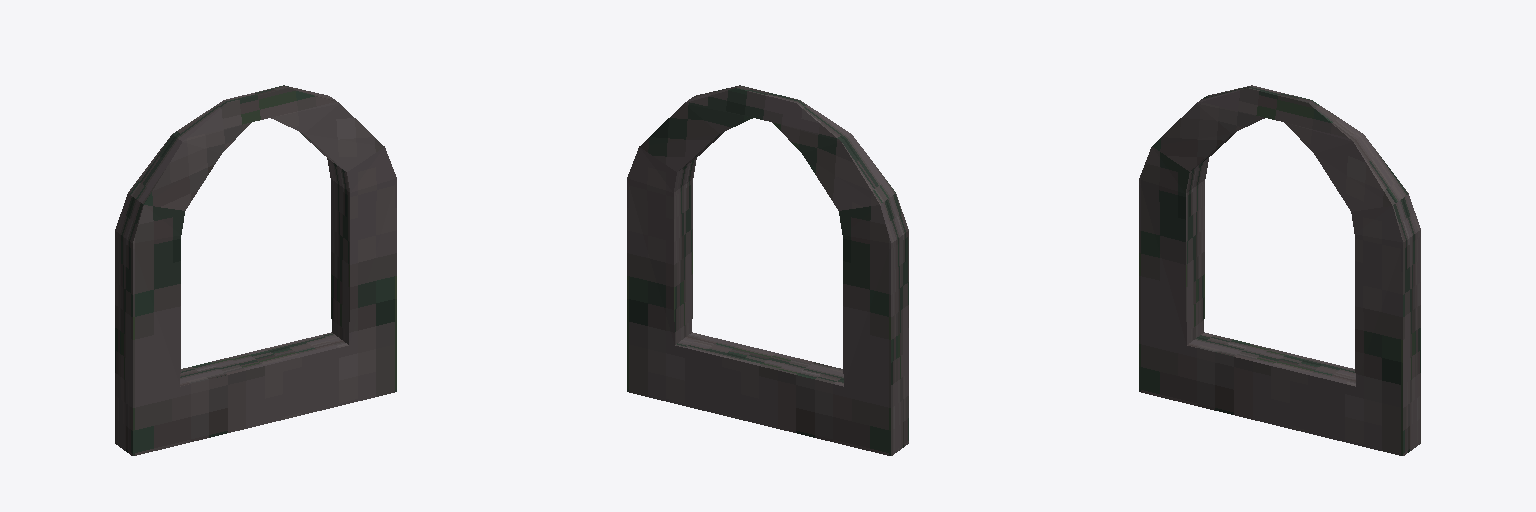
3 views of the same model, side by side, from view 1: azimuth 30°, elevation 25°; view 2: azimuth 150°, elevation 25°; view 3: azimuth 330°, elevation 25° (orthographic).
Visible parts, largest first — view 1: Cube; view 2: Cube; view 3: Cube.
Part boxes in pixels (left/top/right/bottom): Cube: left=115, top=85, right=396, bottom=455; Cube: left=627, top=85, right=908, bottom=455; Cube: left=1139, top=85, right=1420, bottom=455.
Bounding box in the file's own units: 7.74 × 9.06 × 1.01.
Materials: 1 (1 with a texture image).